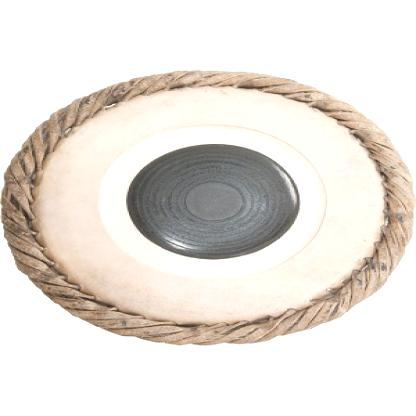Mridangam: (3, 62, 416, 358)
